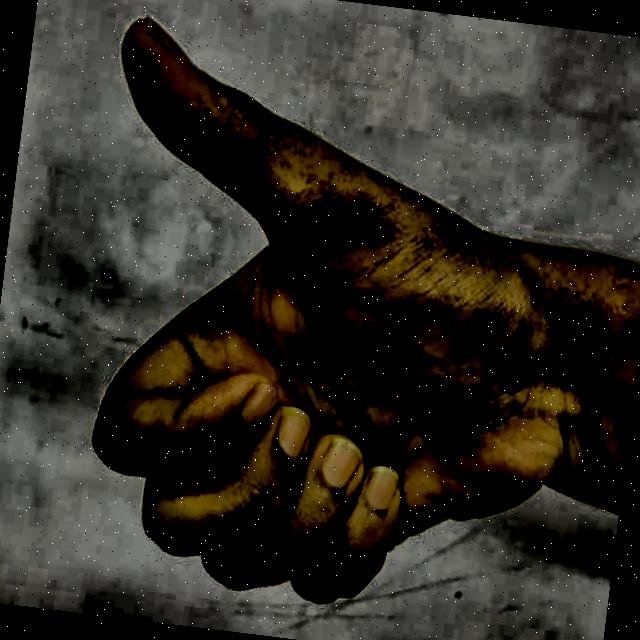Do: (17, 0, 609, 640)
